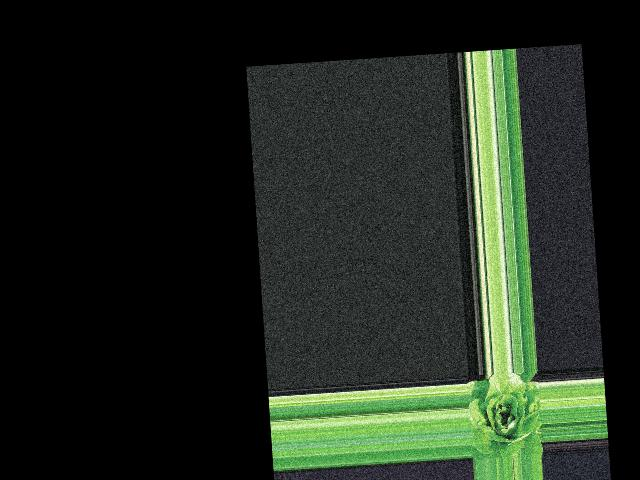lettuce: (469, 374, 544, 459)
